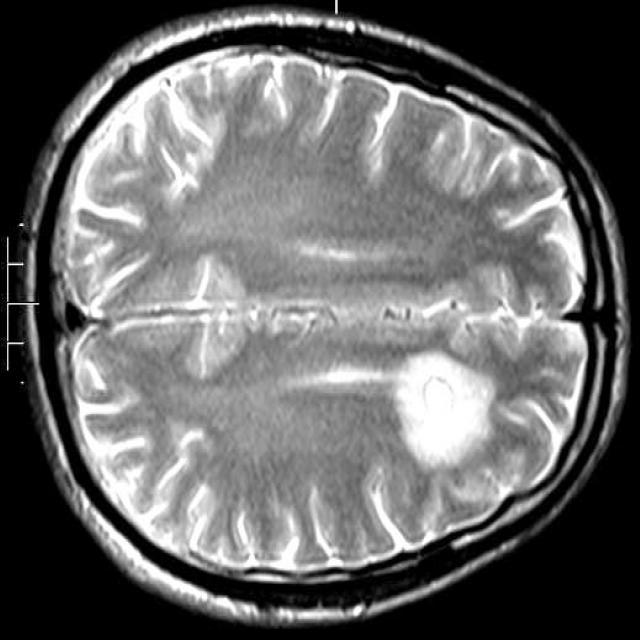tumor: (390, 351, 496, 472)
